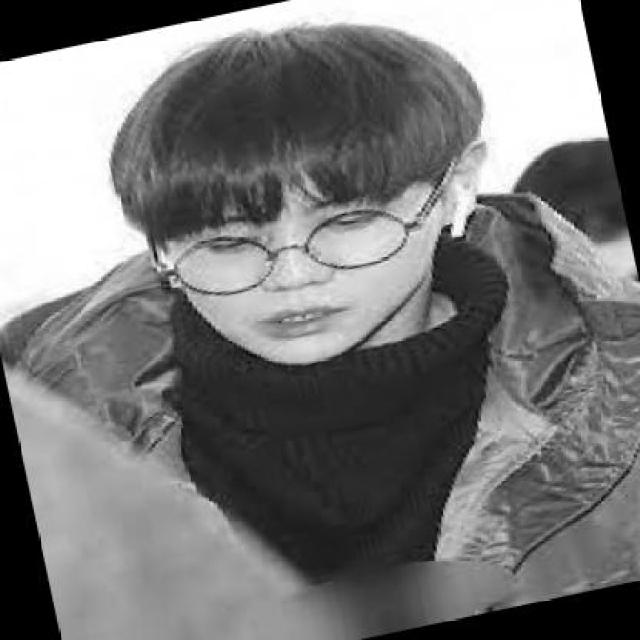earphone: (440, 154, 496, 248), (126, 220, 190, 289)
